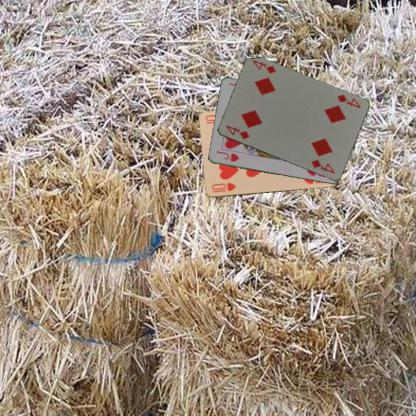10h: (209, 180, 237, 194)
4d: (223, 122, 250, 140), (334, 92, 361, 109)
Jh: (214, 148, 240, 163)
